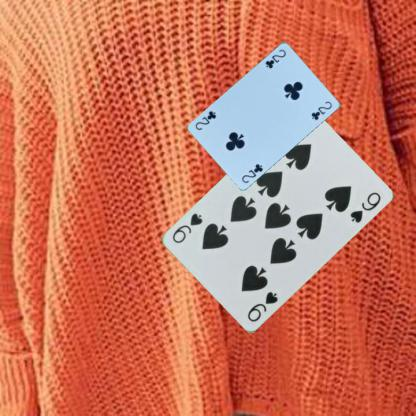2c: (263, 46, 287, 70), (239, 161, 264, 184)
9s: (244, 289, 280, 323)
